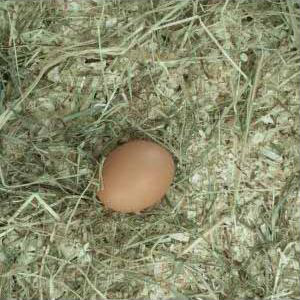egg: (95, 139, 175, 214)
